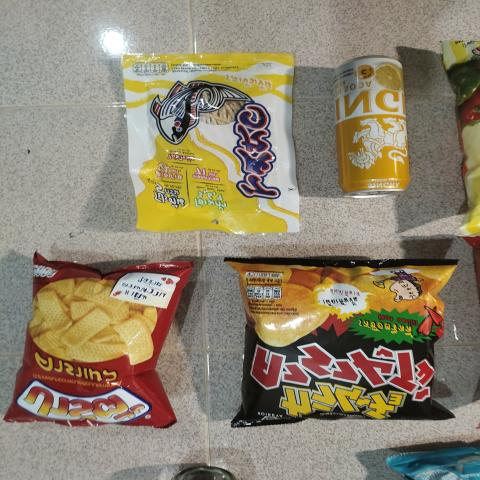karamujo: (242, 264, 439, 427)
party_red: (31, 259, 172, 428)
singha_yellow: (339, 55, 407, 197)
taro_yellow: (136, 60, 292, 228)
